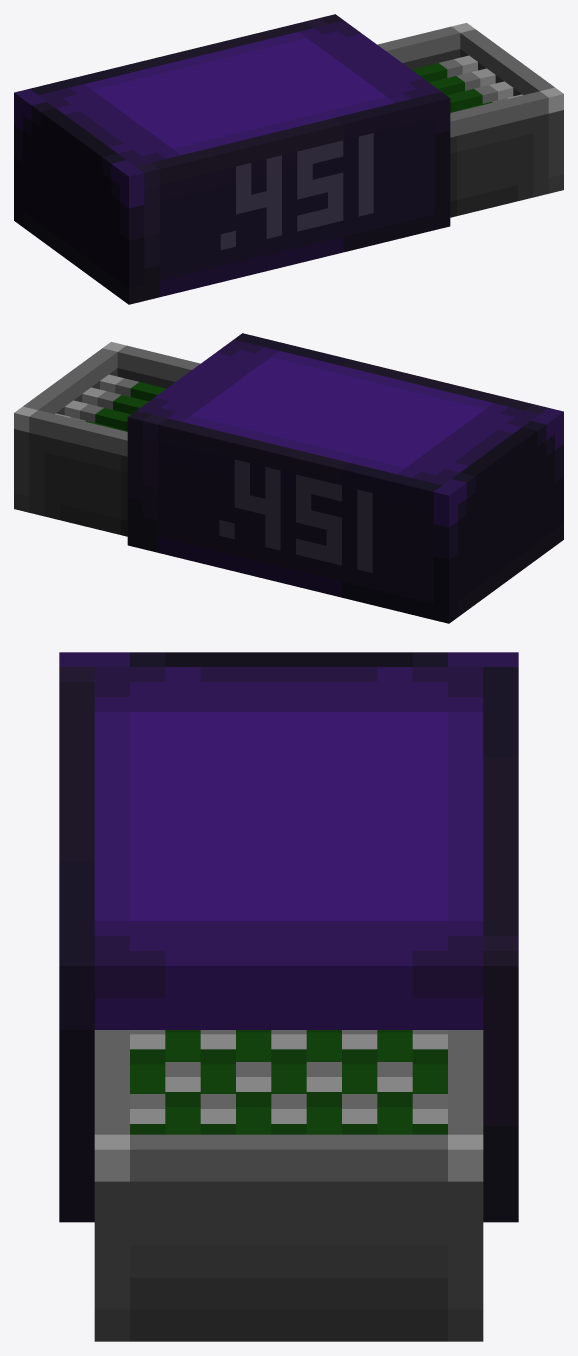
The model's file is 451bxA.obj.
3 renders of one model, top to bottom at view 1: azimuth 30°, elevation 25°; view 2: azimuth 150°, elevation 25°; view 3: azimuth 270°, elevation 25°, orthographic. The views are drawn at different scales.
Bounding box in the file's own units: 2.9 × 0.8 × 1.3.
Materials: 1 (1 with a texture image).
